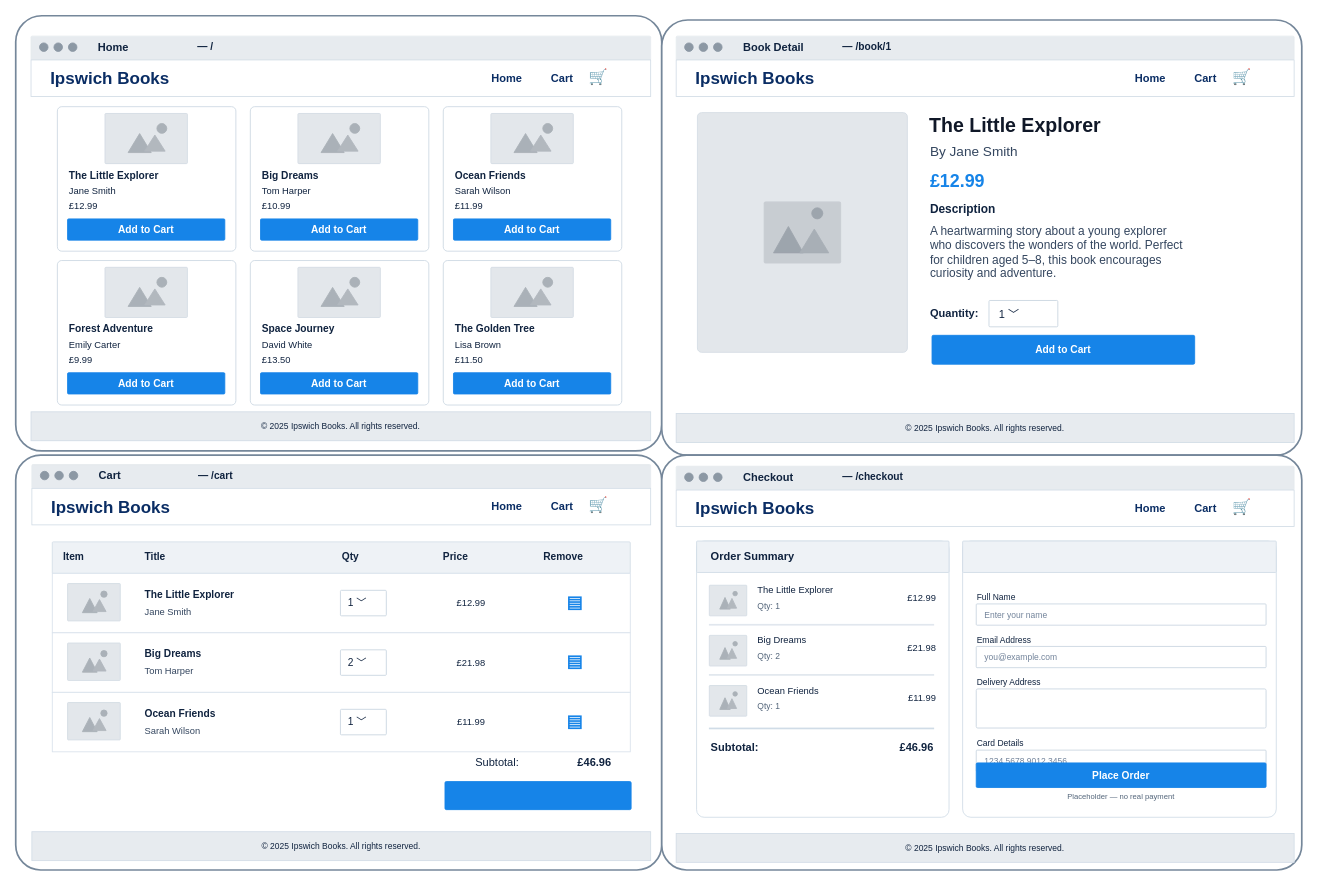
This 1317x885 diagram has some shape labels left out. The shapes that lost their labels are listed below. From the top down, each one's centre as x and y in pixels, then its label:
the point at 1119,556: Shipping & Payment Information
the point at 1120,708: Enter your address
the point at 537,795: Proceed to Checkout
